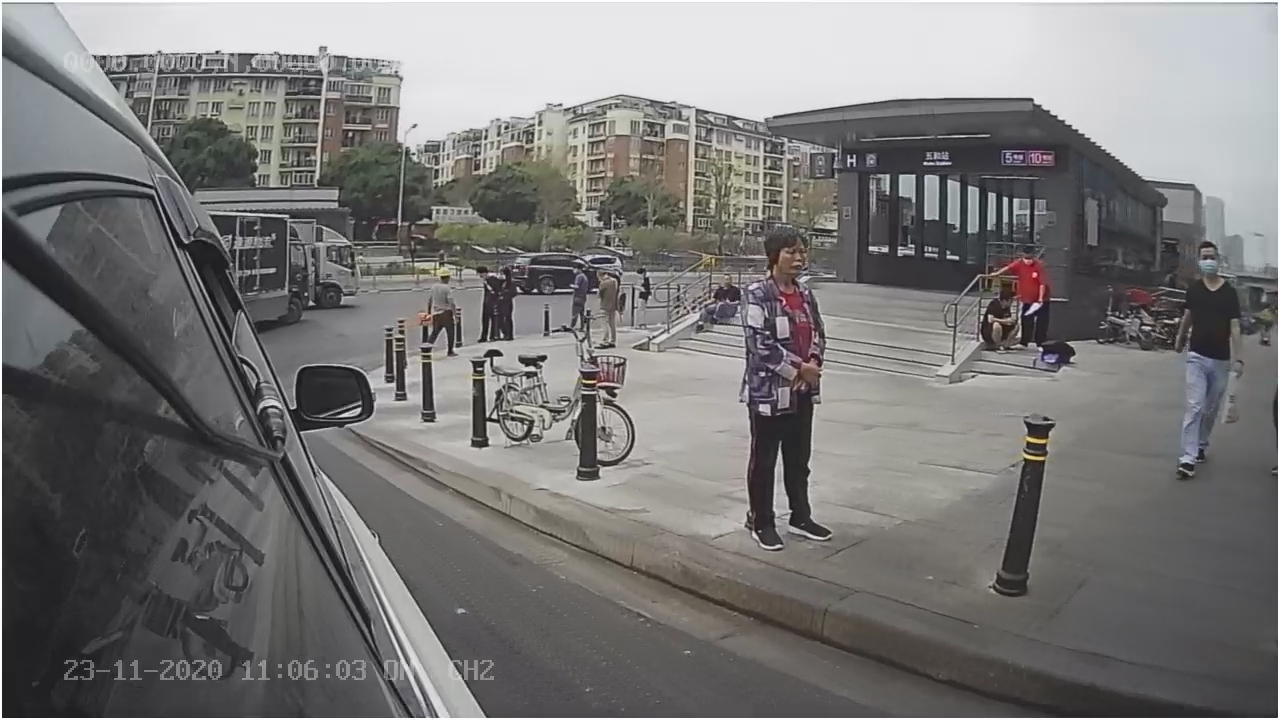person: (733, 223, 848, 552)
